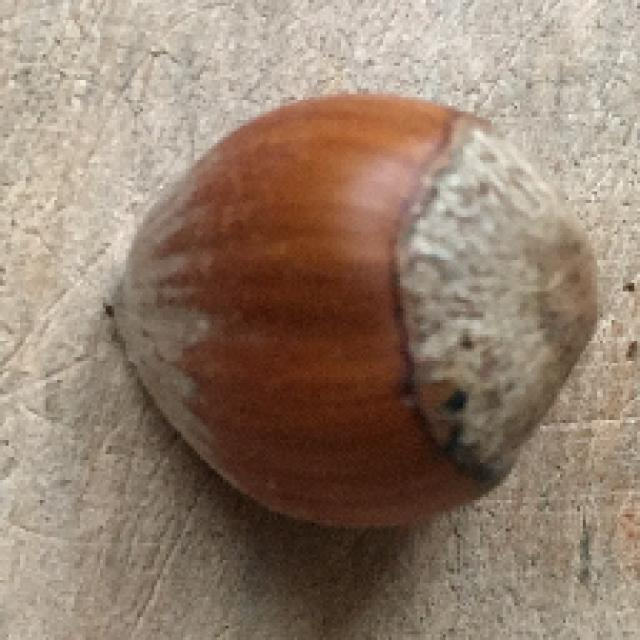qualityHazelnut: (106, 88, 593, 533)
